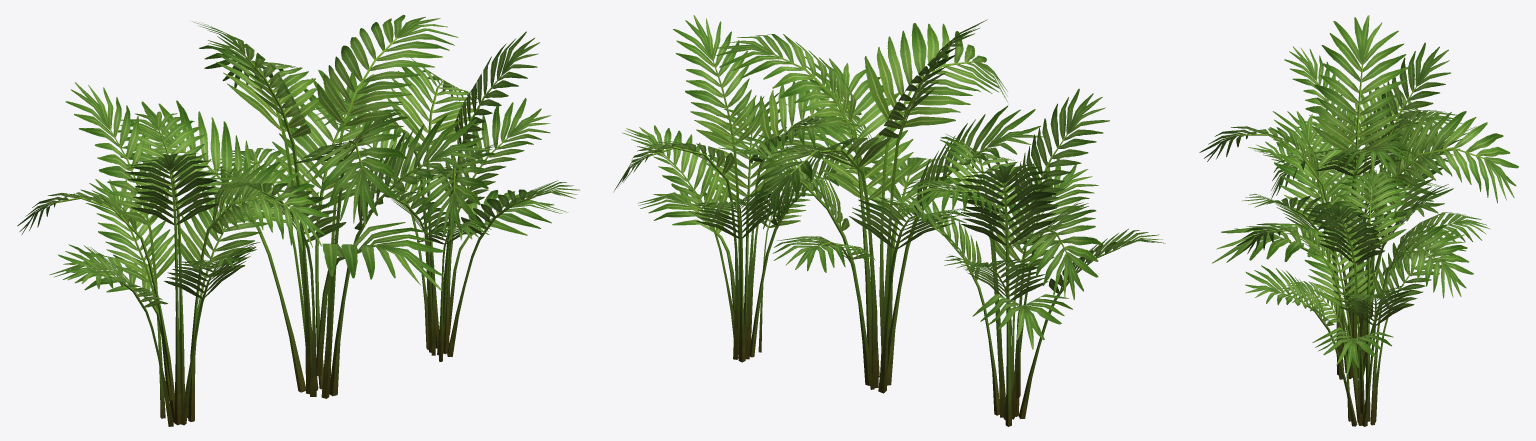
Rendered from D_Plant_008_a.fbx.
3 renders of one model, left to right at view 1: azimuth 30°, elevation 25°; view 2: azimuth 150°, elevation 25°; view 3: azimuth 270°, elevation 25°, orthographic. The views are drawn at different scales.
Visible parts, largest first — view 1: D_Plant_008_a; view 2: D_Plant_008_a; view 3: D_Plant_008_a.
Boxes of the visible parts, bbox=[...] form: D_Plant_008_a: bbox=[17, 15, 579, 426]; D_Plant_008_a: bbox=[613, 15, 1165, 426]; D_Plant_008_a: bbox=[1199, 15, 1518, 426].
Bounding box in the file's own units: 1.99 × 1.43 × 1.33.
1 material, 1 textured.
